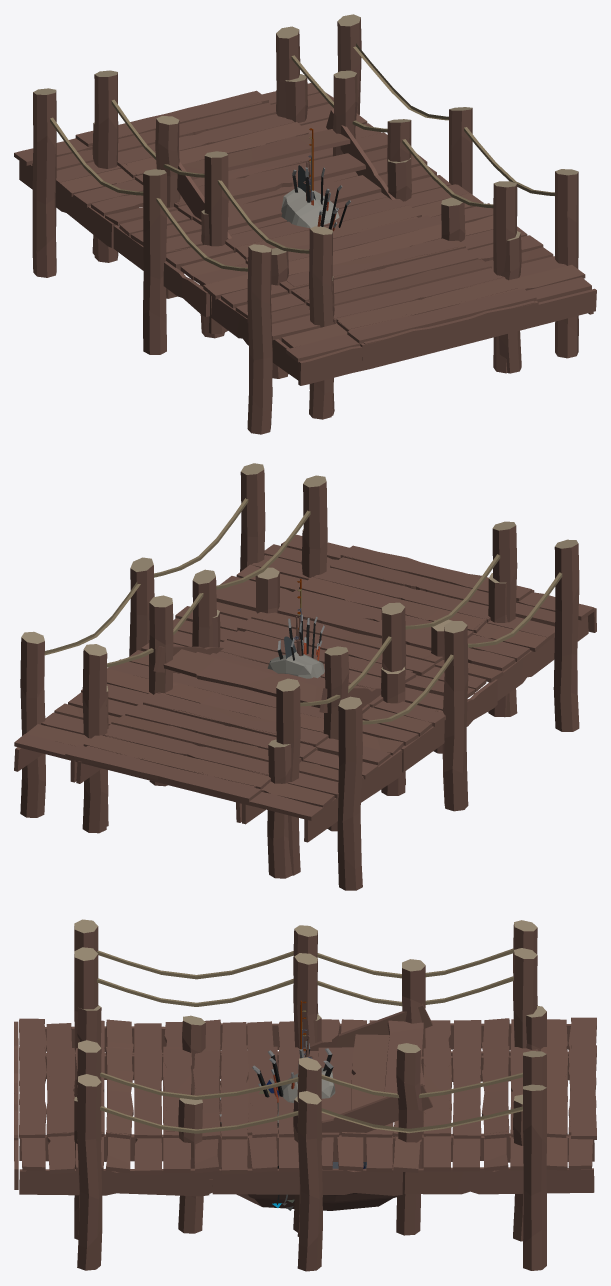
The model's file is peche.glb.
The picture shows the model from 3 angles, top to bottom: view 1: azimuth 30°, elevation 25°; view 2: azimuth 150°, elevation 25°; view 3: azimuth 270°, elevation 25°; orthographic projection. The views are drawn at different scales.
Parts seen in each view (by area): view 1: Dock_Wide, Dock_Long, Dock_Long_NoRope, Dock_Stairs, Sunfish, BlackLionFish; view 2: Dock_Wide, Dock_Long, Dock_Long_NoRope, Dock_Stairs, Sunfish, BlackLionFish; view 3: Dock_Wide, Dock_Long, Dock_Long_NoRope, Dock_Stairs, Boat, BlackLionFish, Sunfish.
Part boxes in pixels (x1,y1,x2,y2): Dock_Wide: (14,14,596,434); Dock_Long: (75,26,535,419); Dock_Long_NoRope: (92,74,538,415); Dock_Stairs: (155,70,465,378); Sunfish: (281,165,339,228); BlackLionFish: (292,167,350,229); Dock_Wide: (14,463,596,890); Dock_Long: (76,475,534,875); Dock_Long_NoRope: (65,529,507,878); Dock_Stairs: (149,567,452,831); Sunfish: (267,636,324,678); BlackLionFish: (277,614,324,660); Dock_Wide: (14,919,596,1271); Dock_Long: (14,947,596,1236); Dock_Long_NoRope: (14,1005,596,1241); Dock_Stairs: (178,959,432,1235); Boat: (236,1126,423,1210); BlackLionFish: (219,1041,333,1116); Sunfish: (277,1068,335,1127).
Bounding box in the file's own units: 14.63 × 7.8 × 21.69.
